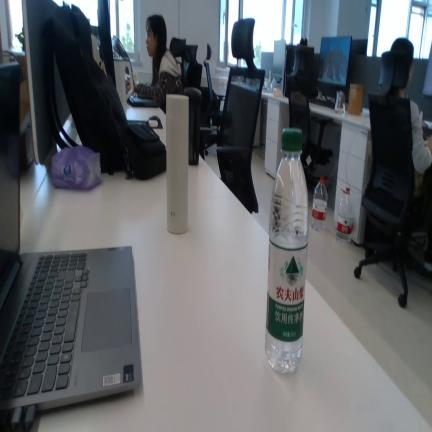bottle: (265, 128, 308, 374), (336, 187, 353, 244), (312, 176, 328, 232)
